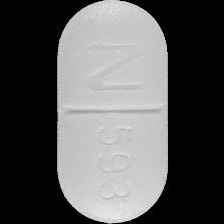63629-4037: (0, 0, 224, 224)
